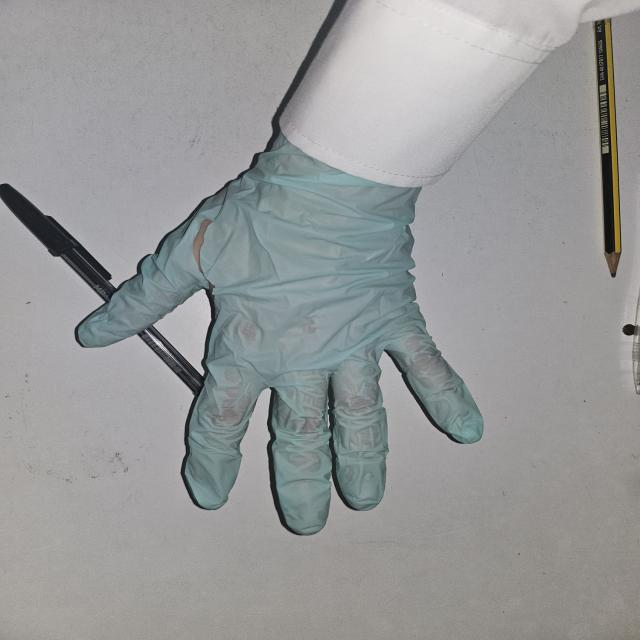gloves_damaged: (70, 147, 484, 538)
